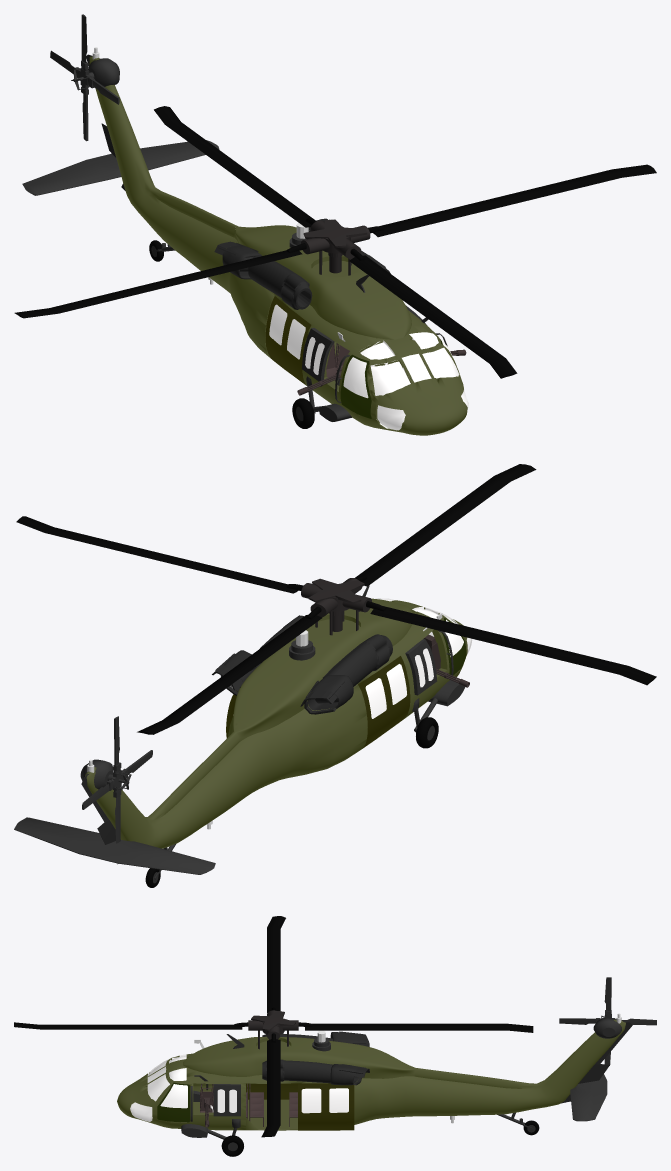
File: helicopter-S70-original.glb
3 renders of one model, top to bottom at view 1: azimuth 30°, elevation 25°; view 2: azimuth 150°, elevation 25°; view 3: azimuth 270°, elevation 25°, orthographic. The views are drawn at different scales.
Parts seen in each view (by area): view 1: mainhull, cockpit_windows, tailfin, rotor4, rotor1, rightengine, rotor2, rotor3, rotorhead, rightdoor, rightdoor_windows, rightcockpitdoor (+4 smaller); view 2: mainhull, tailfin, rotor2, rightengine, rotor1, rotor3, rotor4, rotorhead, rightdoor, rightdoor_windows, rightwheel_, rightgunnerdoor (+1 smaller); view 3: mainhull, rotor3, leftengine, leftdoor, rotor4, rotor1, rotor2, tailfin, cockpit_windows, leftdoor_windows, rotorhead, leftcockpitdoor (+8 smaller).
Boxes of the visible parts, bbox=[...] form: mainhull: bbox=[89, 56, 467, 435]; cockpit_windows: bbox=[360, 332, 468, 430]; tailfin: bbox=[22, 140, 219, 195]; rotor4: bbox=[368, 164, 656, 237]; rotor1: bbox=[349, 248, 517, 378]; rightengine: bbox=[214, 241, 312, 309]; rotor2: bbox=[14, 243, 306, 318]; rotor3: bbox=[154, 106, 316, 227]; rotorhead: bbox=[301, 219, 370, 275]; rightdoor: bbox=[265, 296, 311, 385]; rightdoor_windows: bbox=[269, 304, 305, 359]; rightcockpitdoor: bbox=[340, 354, 371, 418]; mainhull: bbox=[85, 598, 467, 848]; tailfin: bbox=[14, 817, 215, 874]; rotor2: bbox=[366, 601, 656, 685]; rightengine: bbox=[300, 634, 392, 714]; rotor1: bbox=[354, 464, 536, 586]; rotor3: bbox=[137, 606, 322, 734]; rotor4: bbox=[16, 516, 303, 593]; rotorhead: bbox=[301, 578, 371, 635]; rightdoor: bbox=[358, 656, 410, 748]; rightdoor_windows: bbox=[365, 664, 406, 718]; rightwheel_: bbox=[412, 680, 465, 740]; rightgunnerdoor: bbox=[405, 639, 437, 695]; mainhull: bbox=[117, 1019, 625, 1130]; rotor3: bbox=[298, 1022, 533, 1032]; leftengine: bbox=[262, 1059, 369, 1085]; leftdoor: bbox=[298, 1083, 354, 1130]; rotor4: bbox=[261, 1033, 280, 1137]; rotor1: bbox=[14, 1022, 248, 1029]; rotor2: bbox=[267, 916, 285, 1013]; tailfin: bbox=[570, 1074, 607, 1121]; cockpit_windows: bbox=[130, 1054, 186, 1121]; leftdoor_windows: bbox=[301, 1088, 348, 1113]; rotorhead: bbox=[248, 1010, 298, 1049]; leftcockpitdoor: bbox=[157, 1082, 190, 1122].
Bounding box in the file's own units: 150 × 48.32 × 186.
